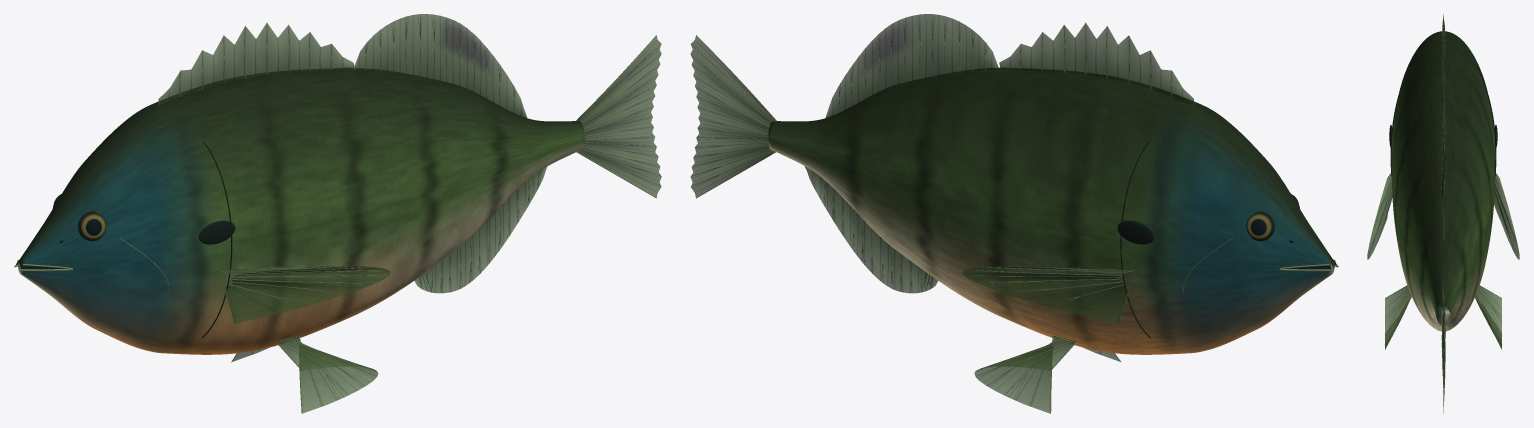
The model's file is bluegill.glb.
The picture shows the model from 3 angles, left to right: view 1: azimuth 30°, elevation 25°; view 2: azimuth 150°, elevation 25°; view 3: azimuth 270°, elevation 25°; orthographic projection. The views are drawn at different scales.
Visible parts, largest first — view 1: bluegill specimen; view 2: bluegill specimen; view 3: bluegill specimen.
Boxes of the visible parts, <box> form: bluegill specimen: <box>14,14,661,413</box>; bluegill specimen: <box>690,14,1338,413</box>; bluegill specimen: <box>1367,14,1519,413</box>.
Bounding box in the file's own units: 2.19 × 1.19 × 0.5395.
Materials: 10 (6 with a texture image).
